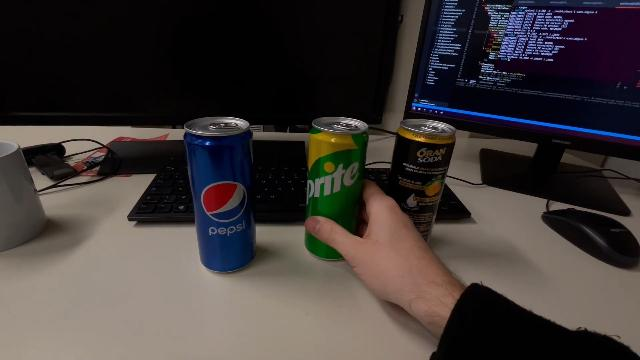OranSoda: (385, 118, 457, 246)
Pepsi: (180, 114, 258, 274)
Sprite: (300, 114, 372, 264)
